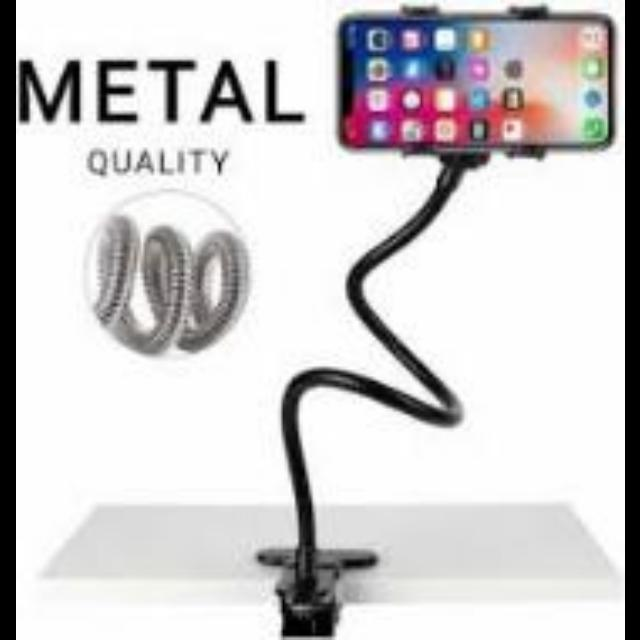phone: (333, 5, 615, 159)
